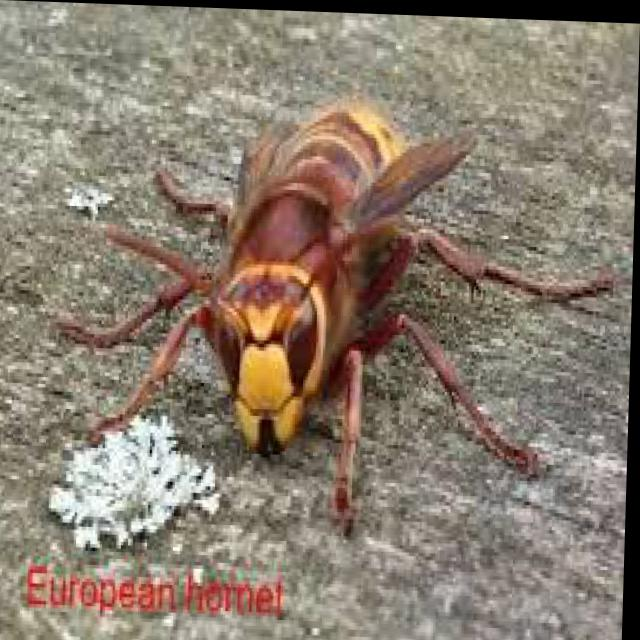Vespa Crabro: (18, 56, 636, 538)
